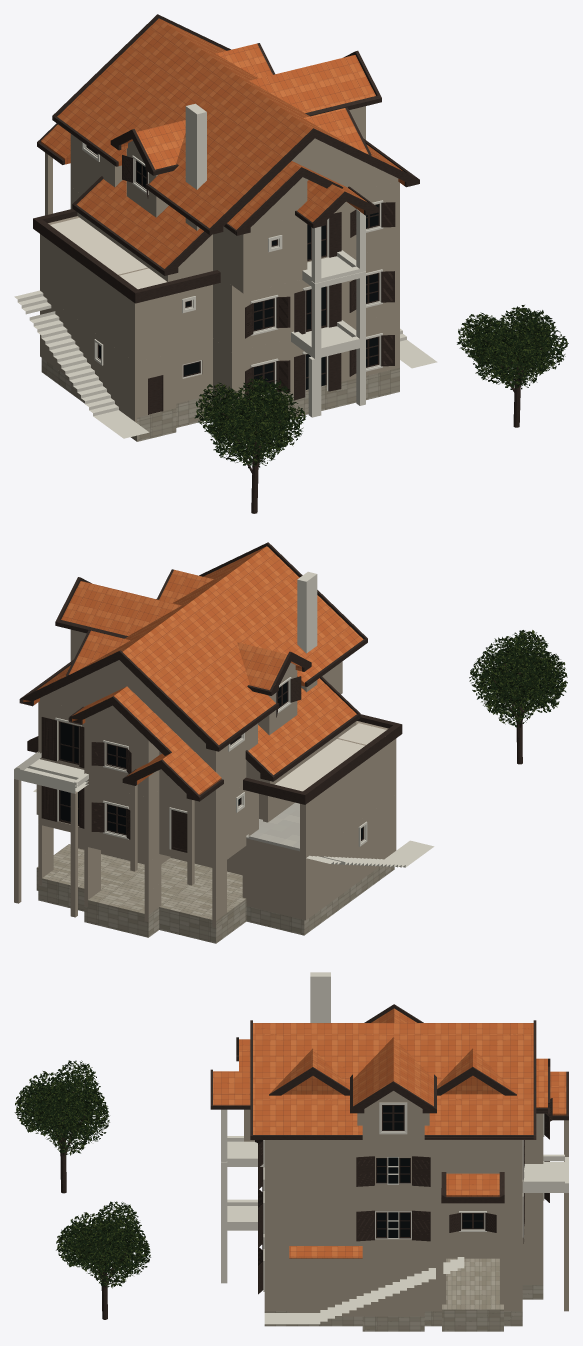
File: context-detail-b29.glb
The picture shows the model from 3 angles, top to bottom: view 1: azimuth 30°, elevation 25°; view 2: azimuth 150°, elevation 25°; view 3: azimuth 270°, elevation 25°; orthographic projection. The views are drawn at different scales.
Visible parts, largest first — view 1: B29 | ÇATII.003, B29 | KAT 1$DUVAR, B29 | KAT 2$DUVAR, B29 | KAT 0$DUVAR, B29 | ek dalgalar, Individual folded leaves.016, B29 | ÇATI ALIN.002, Individual folded leaves.015, B29 | ÇATII.002, B29 | KAT 3$DUVAR, B29 foundation below BK, B29 | ÇATI ALIN.001 (+14 smaller); view 2: B29 | ÇATII.003, B29 | KAT 1$DUVAR, B29 | KAT 0$DUVAR, B29 foundation below BK, B29 | KAT 2$DUVAR, Individual folded leaves.016, B29 | ÇATII.002, B29 | ÇATI ALIN.002, B29 | KAT 3$DUVAR, B29 | ÇATI ALIN.001, B29 | ÇATI ALIN, B29 | KAT 1$TAVAN (+13 smaller); view 3: B29 | ÇATII.003, B29 | KAT 1$DUVAR, B29 | KAT 0$DUVAR, B29 | KAT 2$DUVAR, B29 foundation below BK, Individual folded leaves.016, Individual folded leaves.015, B29 | ÇATI ALIN.002, B29 | ek dalgalar, B29 | ek dalgalar.001, B29 | PENCERE_KAPI$SHUTTER.001, B29 | KAT 3$DUVAR (+12 smaller).
Part boxes in pixels (x1,y1,x2,y2): B29 | ÇATII.003: [57, 18, 402, 229]; B29 | KAT 1$DUVAR: [40, 152, 399, 362]; B29 | KAT 2$DUVAR: [70, 134, 399, 293]; B29 | KAT 0$DUVAR: [40, 295, 399, 422]; B29 | ek dalgalar: [14, 274, 437, 438]; Individual folded leaves.016: [194, 376, 306, 468]; B29 | ÇATI ALIN.002: [52, 14, 419, 235]; Individual folded leaves.015: [457, 305, 568, 389]; B29 | ÇATII.002: [41, 124, 404, 268]; B29 | KAT 3$DUVAR: [126, 106, 398, 227]; B29 foundation below BK: [41, 358, 399, 441]; B29 | ÇATI ALIN.001: [37, 116, 419, 275]; B29 | ÇATII.003: [23, 546, 363, 751]; B29 | KAT 1$DUVAR: [36, 721, 396, 885]; B29 | KAT 0$DUVAR: [14, 779, 396, 927]; B29 foundation below BK: [36, 844, 394, 943]; B29 | KAT 2$DUVAR: [38, 658, 356, 803]; Individual folded leaves.016: [469, 630, 567, 727]; B29 | ÇATII.002: [34, 676, 356, 794]; B29 | ÇATI ALIN.002: [20, 542, 367, 753]; B29 | KAT 3$DUVAR: [40, 629, 297, 739]; B29 | ÇATI ALIN.001: [19, 599, 367, 801]; B29 | ÇATI ALIN: [27, 714, 402, 804]; B29 | KAT 1$TAVAN: [275, 723, 386, 791]; B29 | ÇATII.003: [213, 1008, 547, 1134]; B29 | KAT 1$DUVAR: [264, 1120, 568, 1258]; B29 | KAT 0$DUVAR: [264, 1193, 568, 1316]; B29 | KAT 2$DUVAR: [244, 1109, 543, 1200]; B29 foundation below BK: [264, 1258, 543, 1331]; Individual folded leaves.016: [14, 1060, 109, 1155]; Individual folded leaves.015: [56, 1201, 150, 1288]; B29 | ÇATI ALIN.002: [210, 1004, 550, 1135]; B29 | ek dalgalar: [221, 1165, 464, 1324]; B29 | ek dalgalar.001: [221, 1138, 568, 1277]; B29 | PENCERE_KAPI$SHUTTER.001: [258, 1161, 549, 1243]; B29 | KAT 3$DUVAR: [357, 1091, 429, 1142].
Bounding box in the file's own units: 18.95 × 14.71 × 26.89.
Materials: 12 (12 with a texture image).
